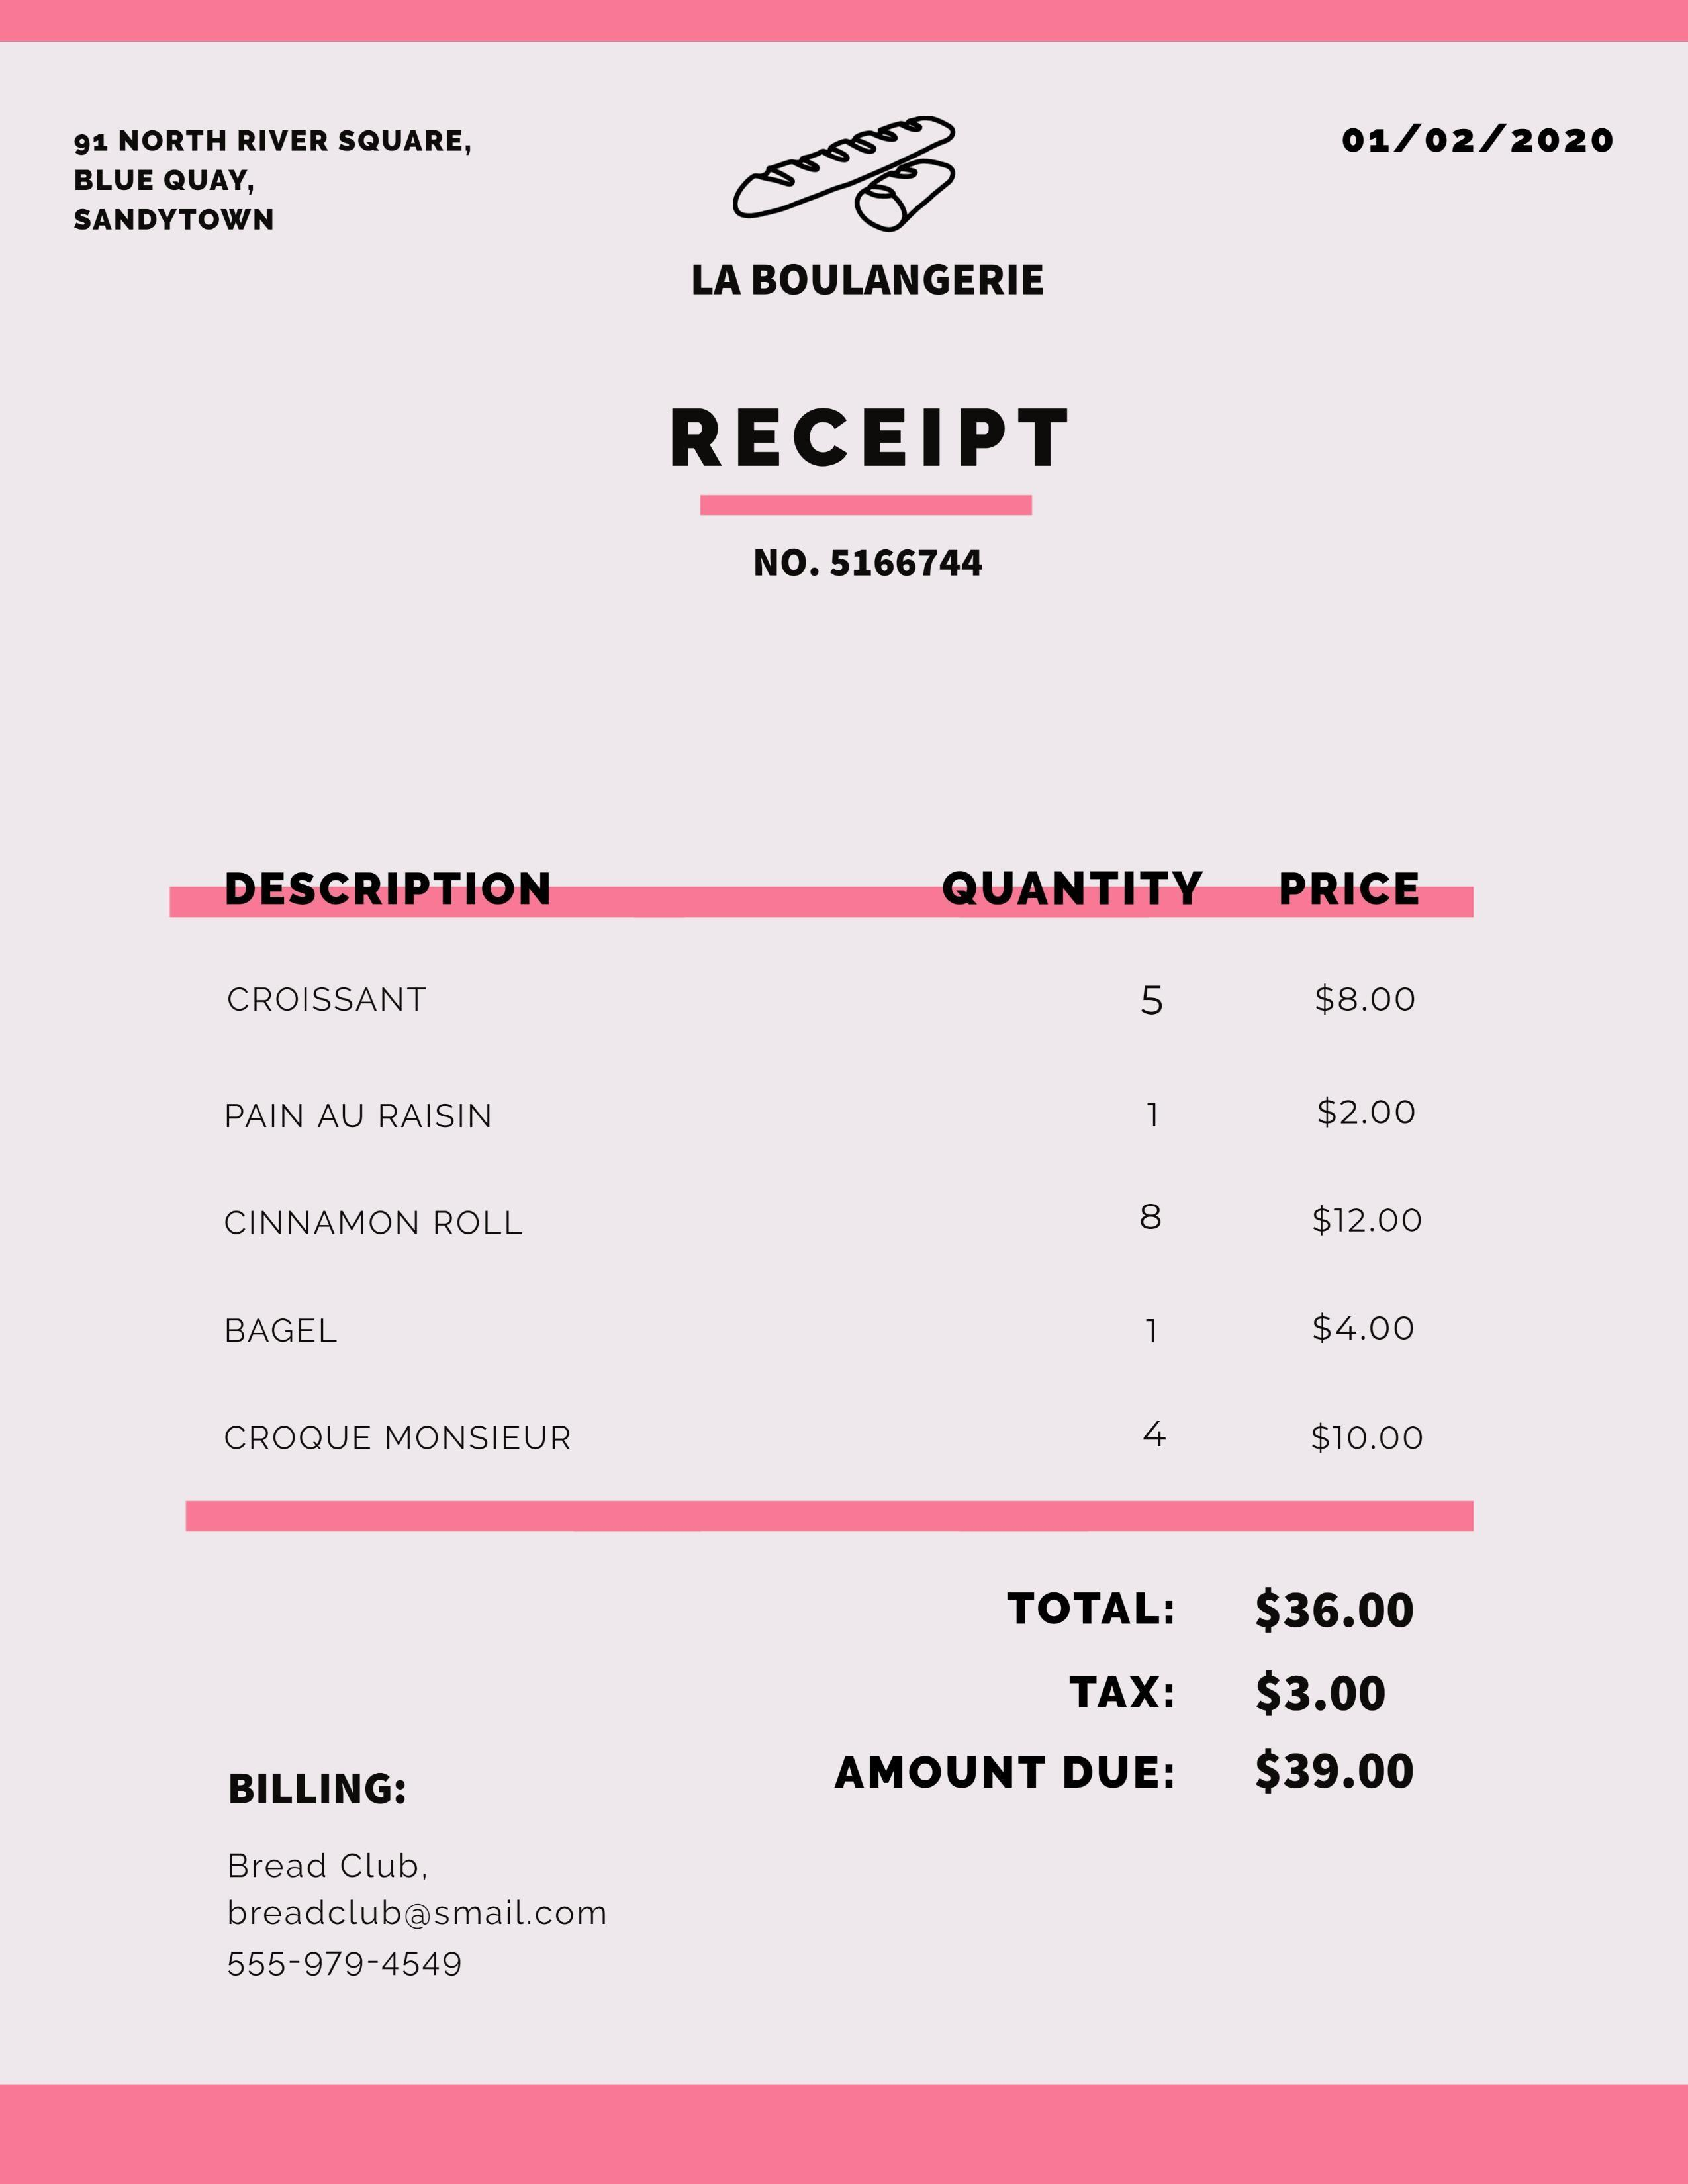ROI: (167, 858, 1468, 1478), (830, 1556, 1486, 1796), (206, 1771, 631, 2000), (700, 526, 1083, 620), (672, 246, 1071, 312)
